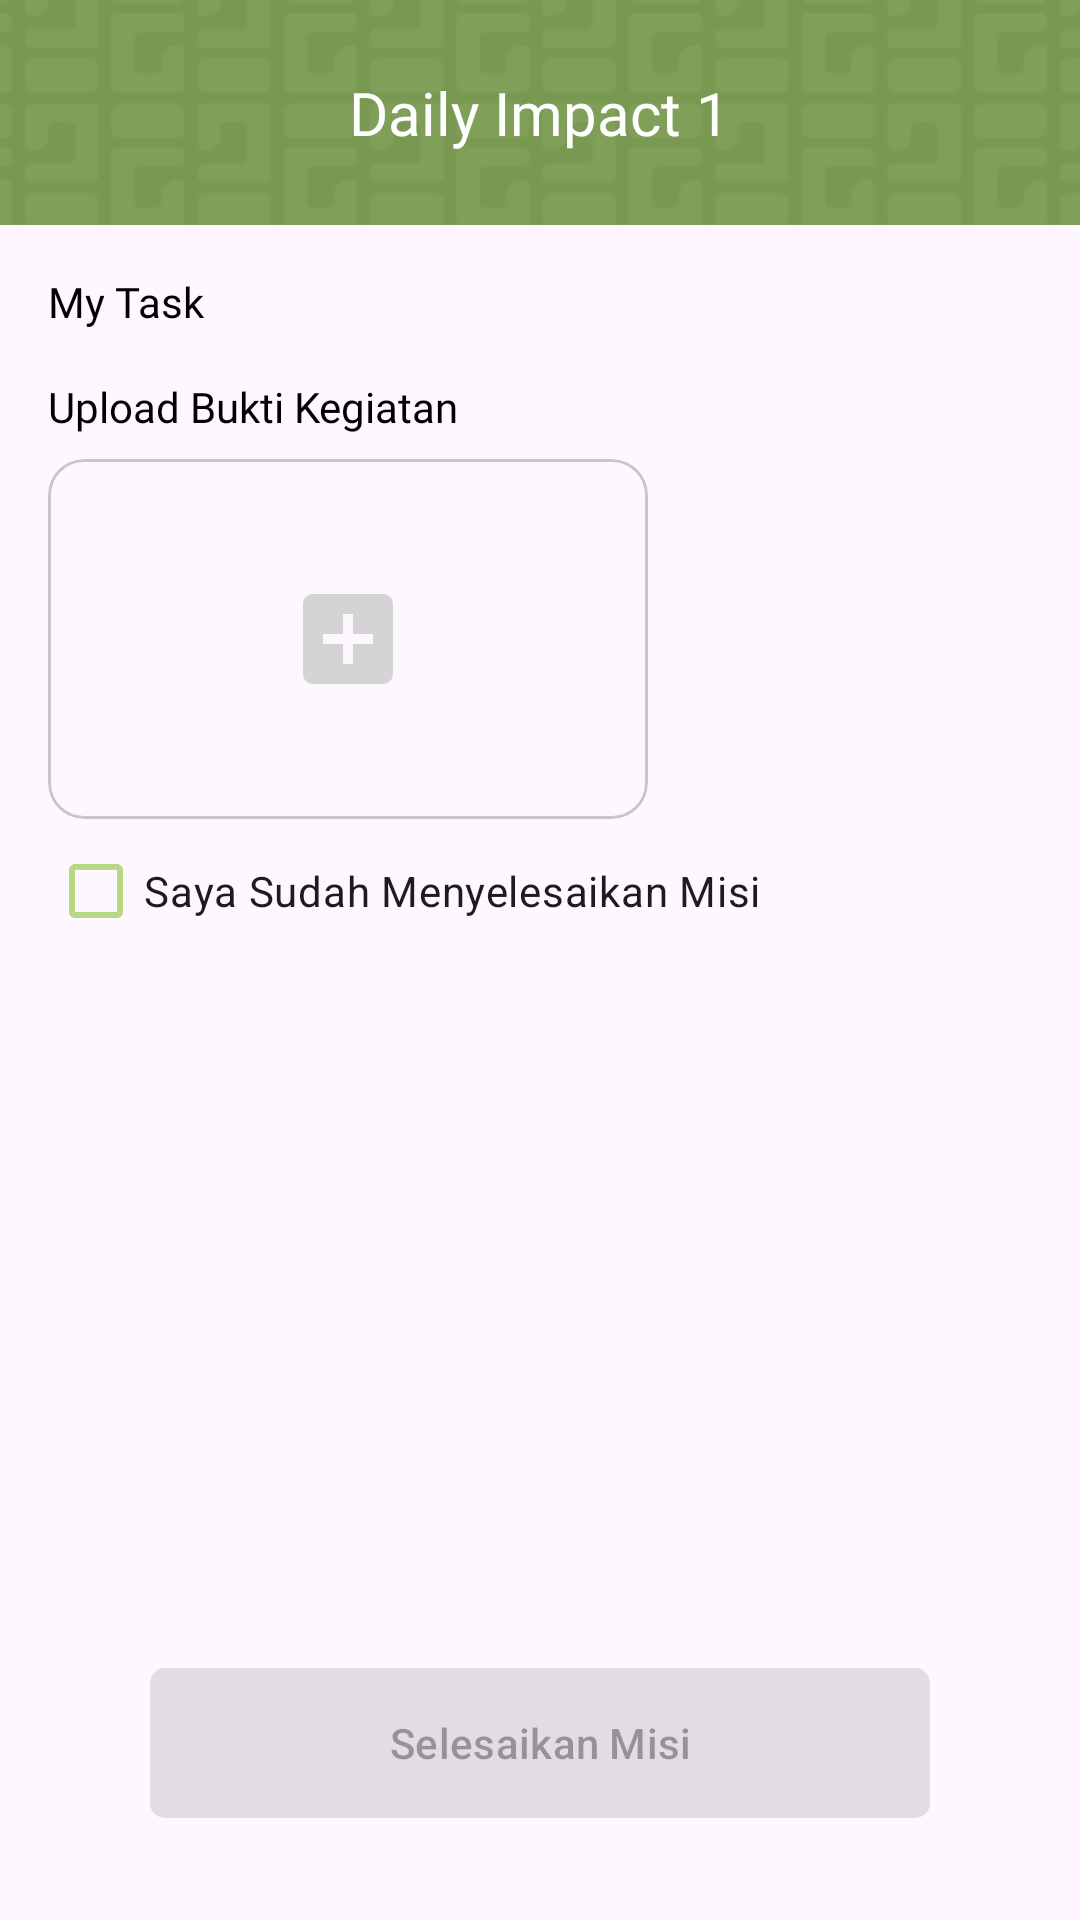

Icon click points for this 1080 × 1920 phone screenshot, format (x=x, y=y):
add box: (x=348, y=639)
